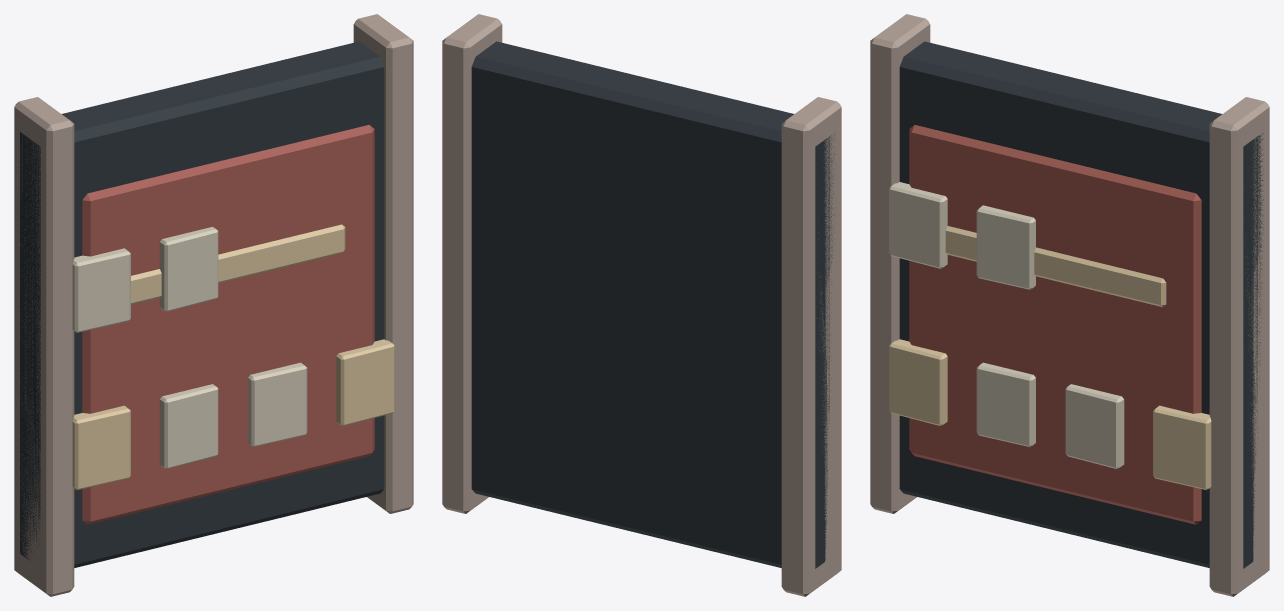
The model's file is town_textile_drape.glb.
3 views of the same model, side by side, from view 1: azimuth 30°, elevation 25°; view 2: azimuth 150°, elevation 25°; view 3: azimuth 330°, elevation 25° (orthographic).
Size of the model in its own units: 1.32 by 1.62 by 0.2582.
